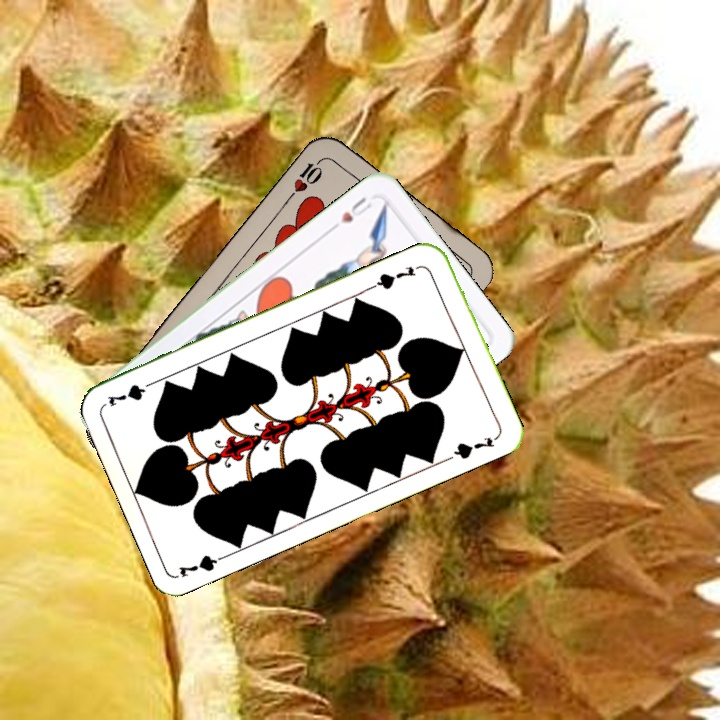G7: (175, 549, 234, 580), (369, 260, 425, 292)
H10: (284, 153, 328, 202)
HU: (327, 193, 375, 233)
